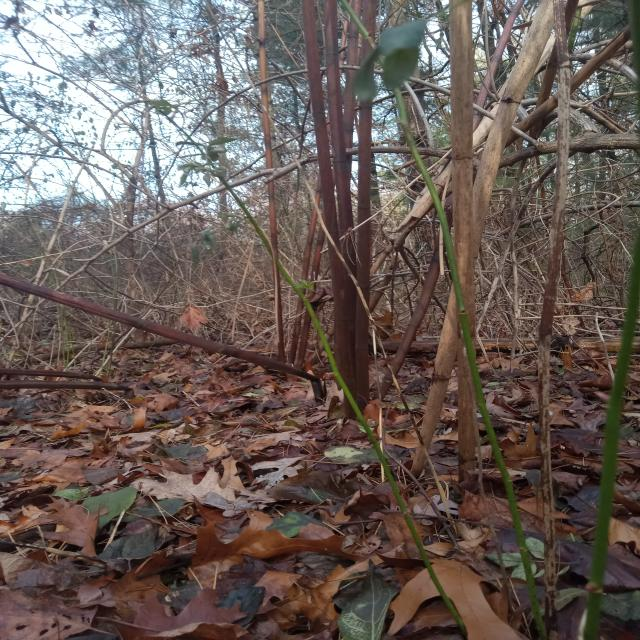bushes: (1, 1, 639, 638)
knotweed-stems: (408, 0, 564, 486), (1, 272, 326, 398), (300, 1, 378, 420)
